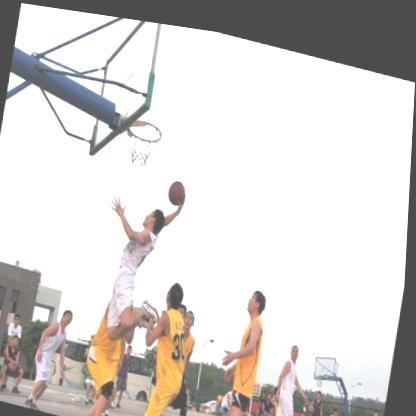basketball: (168, 172, 189, 203)
